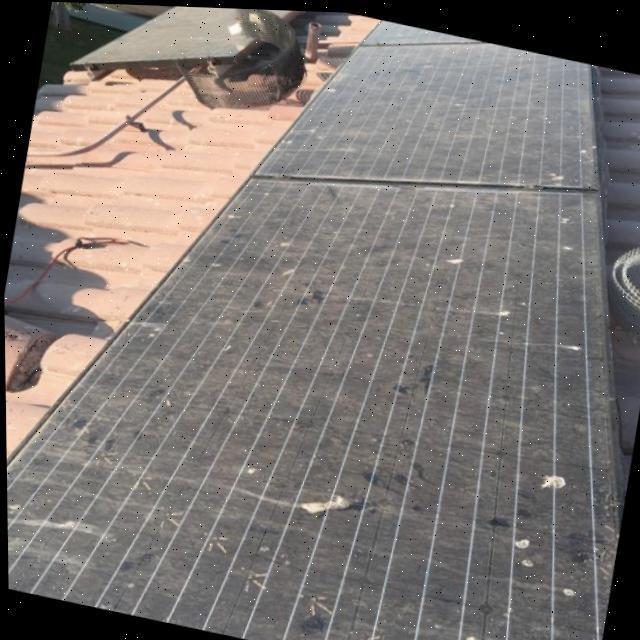Surface Contaminant: (1, 68, 640, 640), (249, 7, 620, 245)
